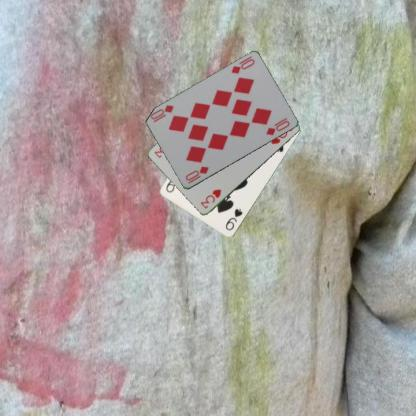10d: (182, 163, 210, 185), (228, 54, 256, 75)
3h: (198, 187, 222, 210)
9s: (223, 206, 244, 232)
